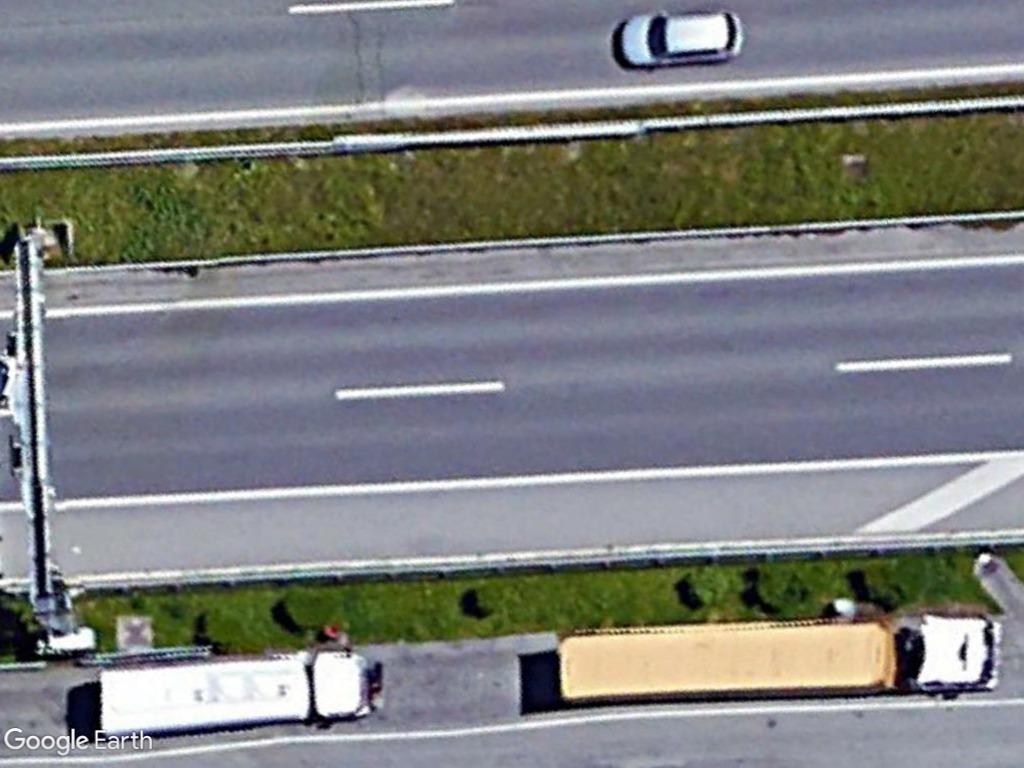car: (614, 11, 749, 75)
longvehicle: (539, 610, 1013, 705)
truck: (95, 643, 377, 740)
